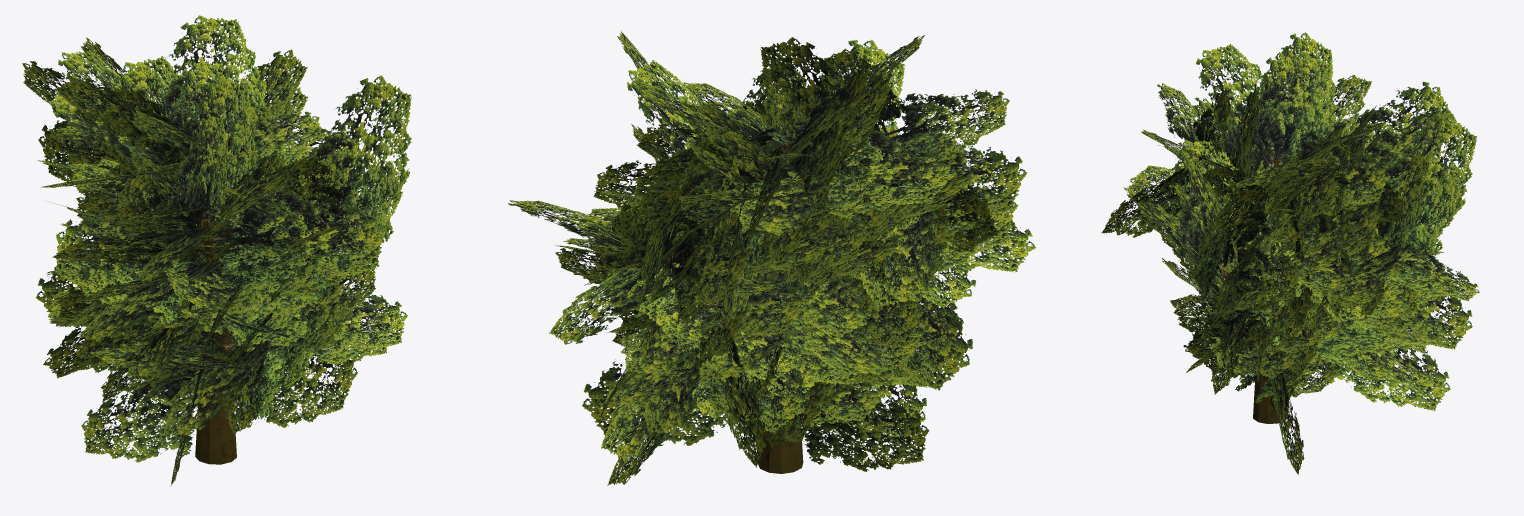
The model's file is Tree1.obj.
3 renders of one model, left to right at view 1: azimuth 30°, elevation 25°; view 2: azimuth 150°, elevation 25°; view 3: azimuth 270°, elevation 25°, orthographic. The views are drawn at different scales.
Parts seen in each view (by area): view 1: Cylinder.001, Cylinder; view 2: Cylinder.001, Cylinder; view 3: Cylinder.001, Cylinder.
Part boxes in pixels (bbox=[...]): Cylinder.001: bbox=[22, 15, 411, 486]; Cylinder: bbox=[195, 180, 270, 464]; Cylinder.001: bbox=[508, 31, 1036, 485]; Cylinder: bbox=[667, 135, 885, 473]; Cylinder.001: bbox=[1101, 32, 1479, 474]; Cylinder: bbox=[1206, 159, 1374, 423].
Bounding box in the file's own units: 13.82 × 14.89 × 14.97.
